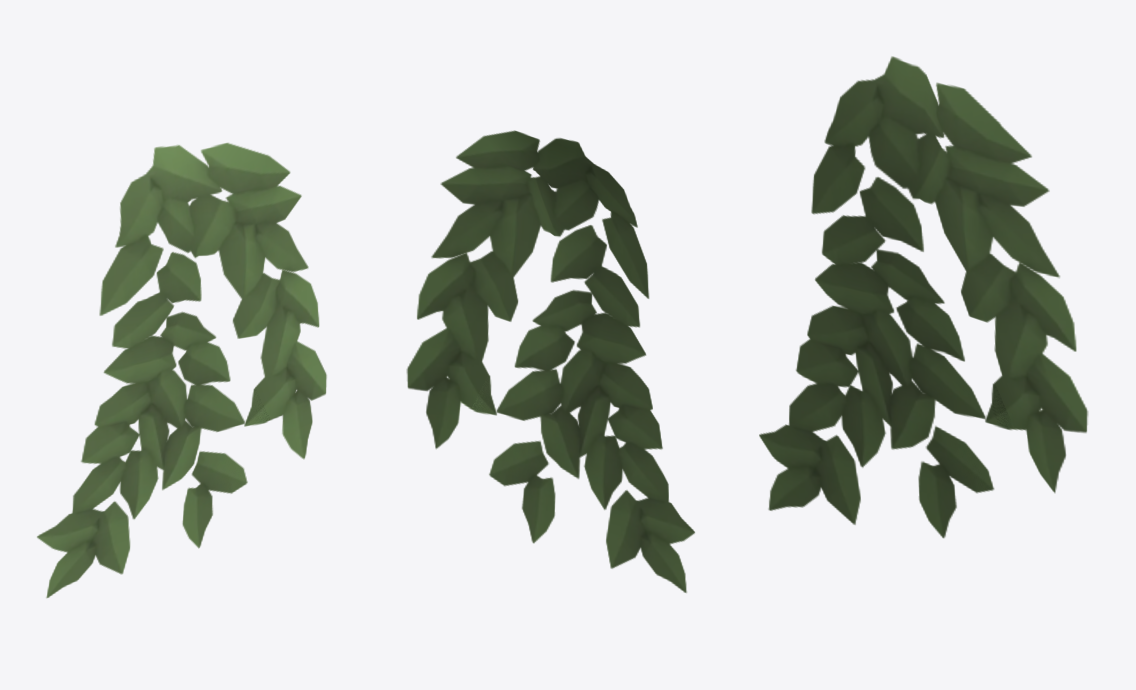
Rendered from elven_SM_Env_Leaves_Clump_04.gltf.
3 renders of one model, left to right at view 1: azimuth 30°, elevation 25°; view 2: azimuth 150°, elevation 25°; view 3: azimuth 330°, elevation 25°, orthographic. The views are drawn at different scales.
Visible parts, largest first — view 1: SM_Env_Leaves_Clump_04; view 2: SM_Env_Leaves_Clump_04; view 3: SM_Env_Leaves_Clump_04.
Boxes of the visible parts, x1,y1,x2,y2 form: SM_Env_Leaves_Clump_04: (37,142,326,597); SM_Env_Leaves_Clump_04: (406,130,694,592); SM_Env_Leaves_Clump_04: (759,56,1088,538).
Bounding box in the file's own units: 0.8516 × 1.41 × 0.088.
1 material, 1 textured.
